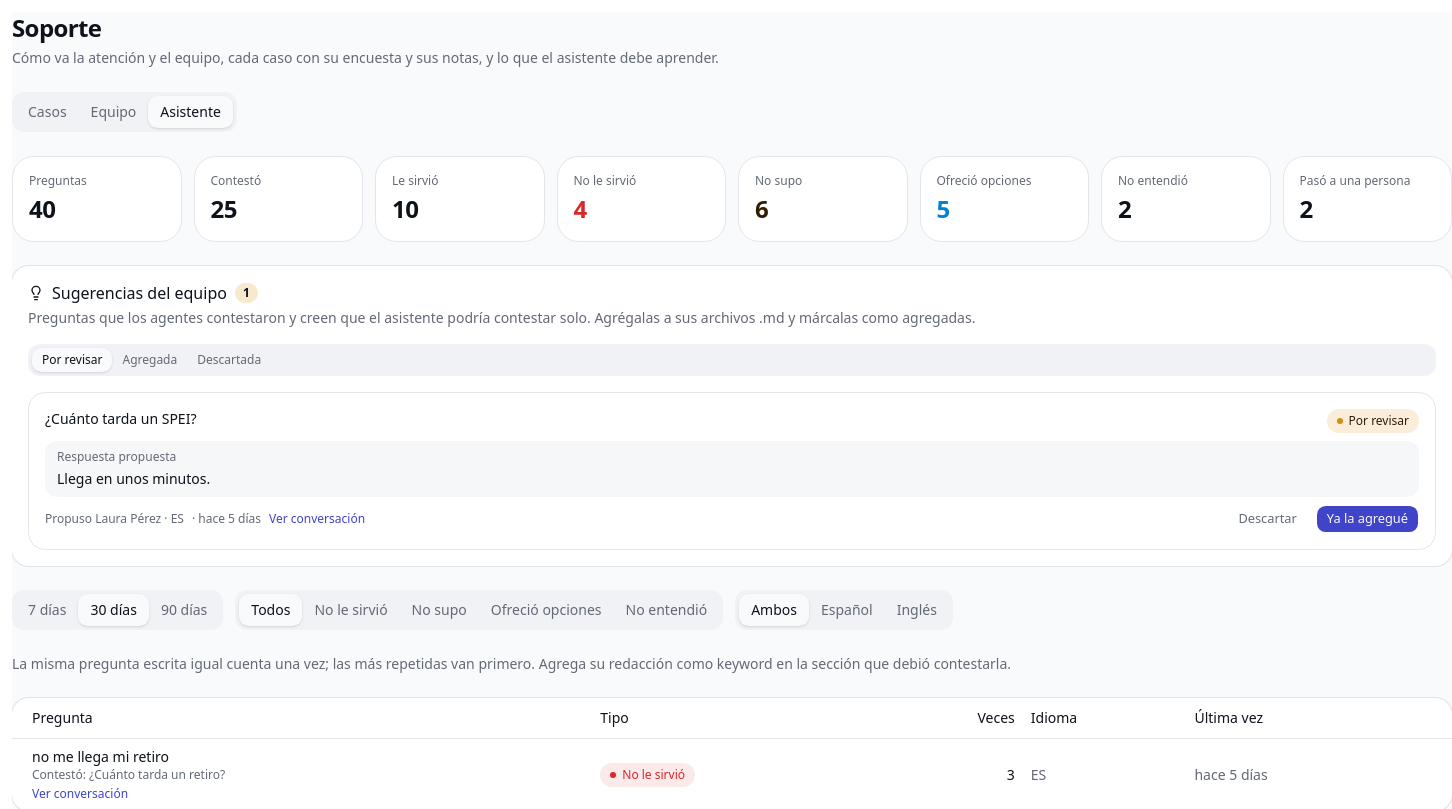
Test: AdminSupportPage › assistant report › lists what agents suggest the assistant learn, and marks one added
Click the button "Ya la agregué" at (1367, 519), box [1316,505,1419,533]
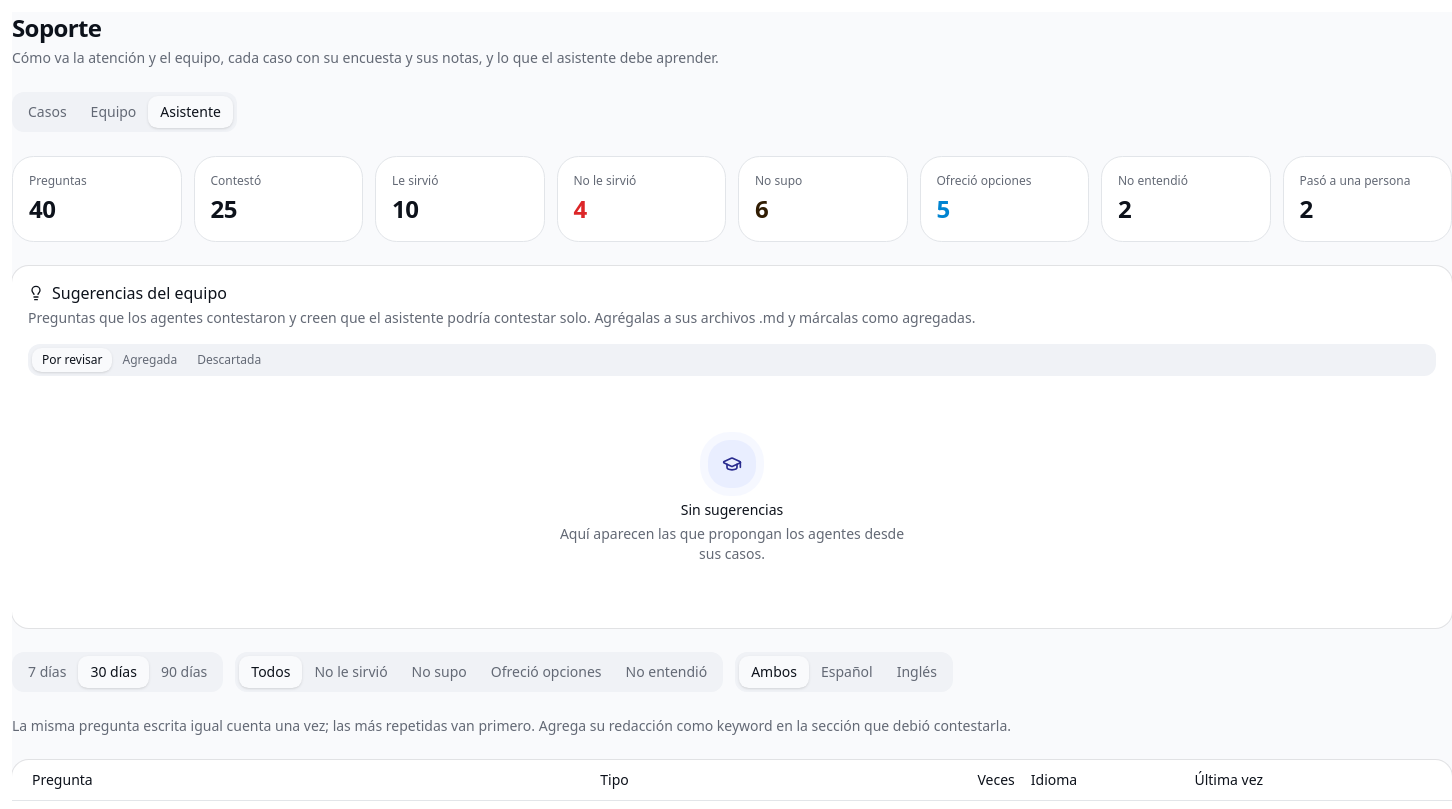
Now the text "Sin sugerencias" is shown, box [681,500,783,519]
